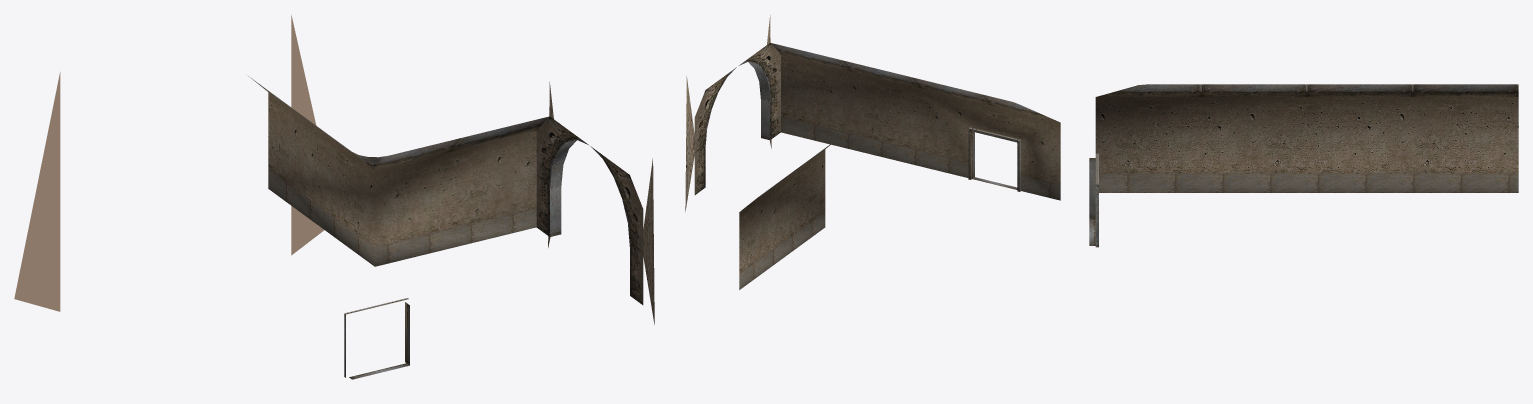
File: M11Z1_Tunnel.glb
3 views of the same model, side by side, from view 1: azimuth 30°, elevation 25°; view 2: azimuth 150°, elevation 25°; view 3: azimuth 270°, elevation 25° (orthographic). The views are drawn at different scales.
Parts seen in each view (by area): view 1: M11Z1_TUNNEL; view 2: M11Z1_TUNNEL; view 3: M11Z1_TUNNEL.
Part boxes in pixels (x1=…): M11Z1_TUNNEL: x1=14, y1=15, x2=654, y2=379; M11Z1_TUNNEL: x1=685, y1=15, x2=1060, y2=289; M11Z1_TUNNEL: x1=1089, y1=84, x2=1518, y2=247.
Size of the model in its own units: 18.5 by 10 by 16.25.
5 materials, 5 textured.
